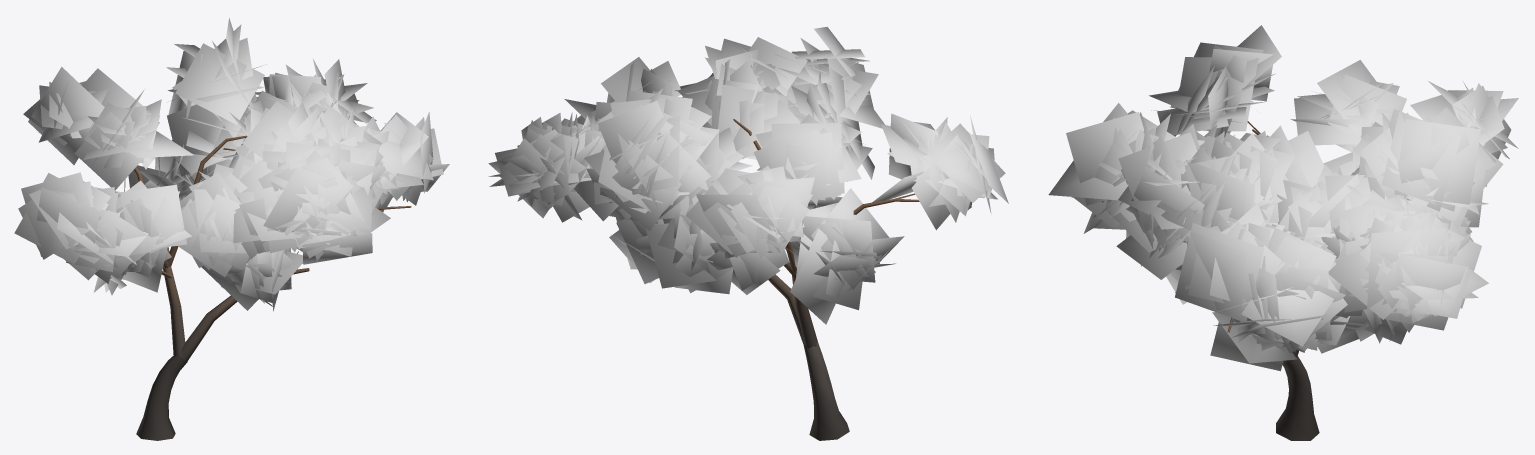
3 views of the same model, side by side, from view 1: azimuth 30°, elevation 25°; view 2: azimuth 150°, elevation 25°; view 3: azimuth 270°, elevation 25° (orthographic). The views are drawn at different scales.
Parts seen in each view (by area): view 1: crown, trunk; view 2: crown, trunk; view 3: crown, trunk.
Part boxes in pixels (x1,y1,x2,y2): crown: [14, 18, 449, 311]; trunk: [134, 135, 411, 440]; crown: [488, 26, 1008, 324]; trunk: [733, 119, 919, 440]; crown: [1048, 25, 1518, 371]; trunk: [1175, 121, 1319, 440].
Bounding box in the file's own units: 14.48 × 10.65 × 11.77.
